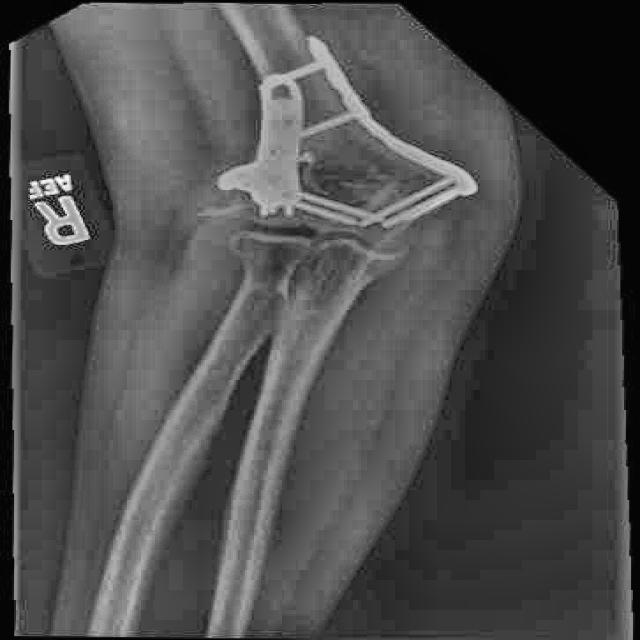elbow positive: (300, 81, 483, 224)
